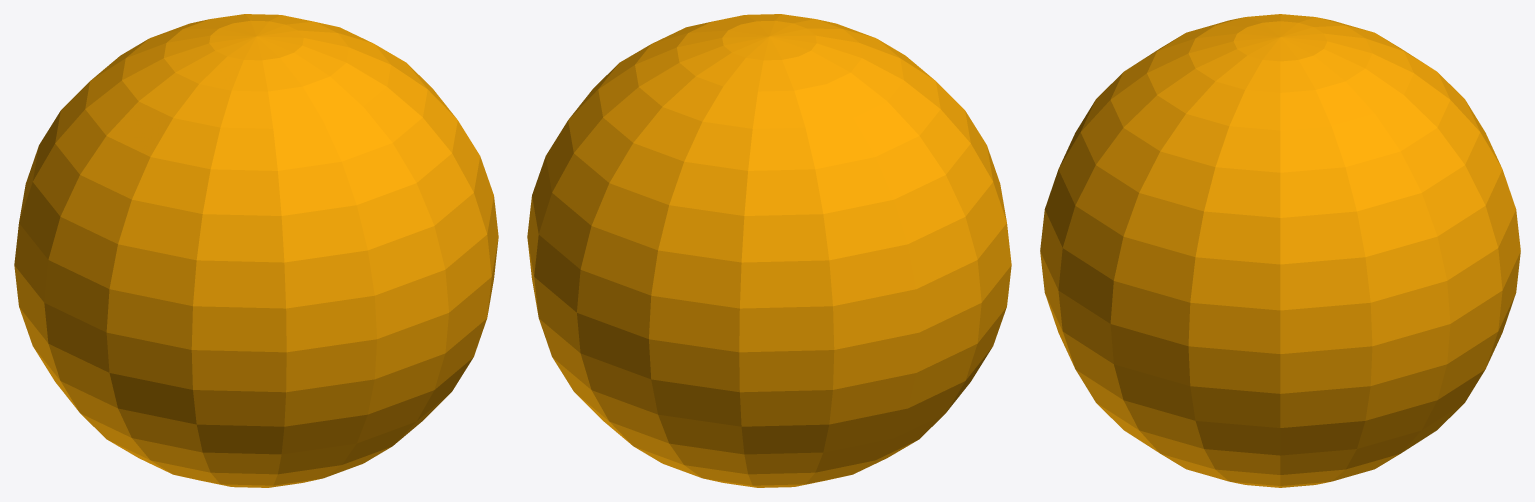
The model's file is sun.fbx.
3 views of the same model, side by side, from view 1: azimuth 30°, elevation 25°; view 2: azimuth 150°, elevation 25°; view 3: azimuth 270°, elevation 25° (orthographic).
Parts seen in each view (by area): view 1: Cube; view 2: Cube; view 3: Cube.
Part boxes in pixels (x1=…): Cube: x1=14, y1=14, x2=498, y2=487; Cube: x1=527, y1=14, x2=1011, y2=487; Cube: x1=1040, y1=14, x2=1520, y2=487.
Bounding box in the file's own units: 4040 × 3903 × 3977.
